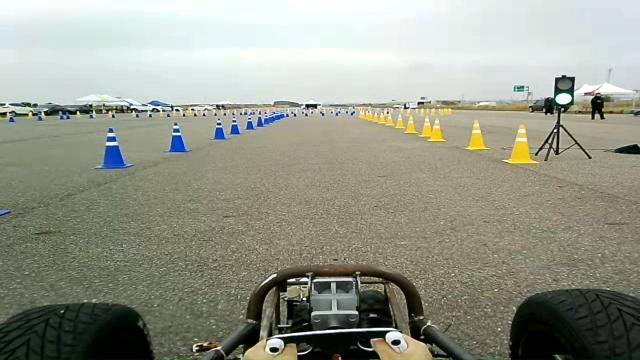blue cone: (95, 127, 134, 169), (162, 121, 192, 153), (210, 117, 228, 140), (228, 116, 241, 134), (245, 120, 255, 130), (262, 116, 274, 124), (256, 116, 264, 127), (274, 113, 284, 121), (0, 209, 11, 216)
yellow cone: (501, 123, 539, 165), (462, 119, 490, 151), (426, 117, 446, 142), (418, 115, 432, 137), (403, 115, 418, 133), (394, 113, 405, 129), (384, 112, 394, 126), (377, 112, 385, 124)
